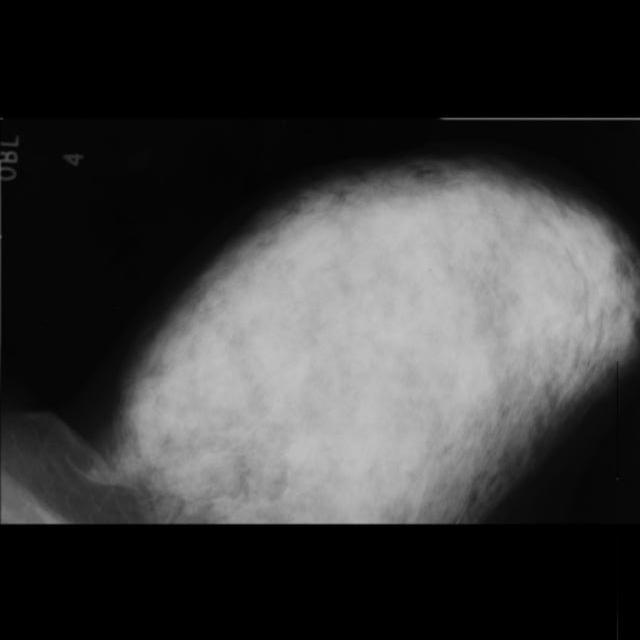CALC: (270, 441, 305, 476)
